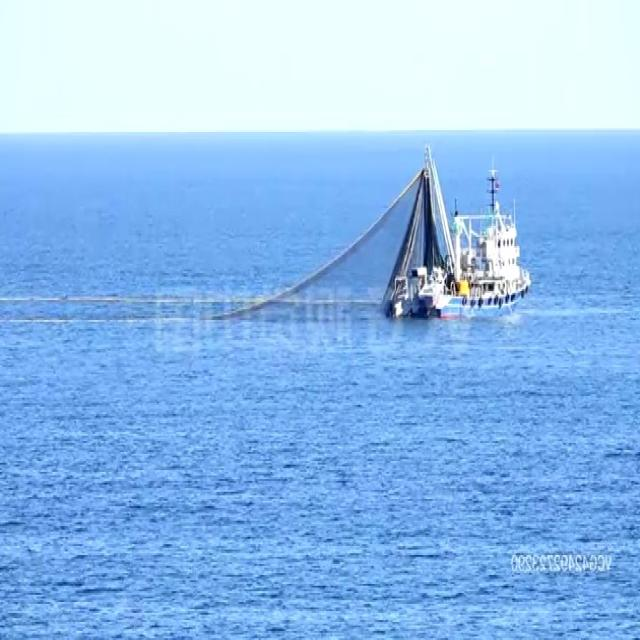fishing boat: (385, 152, 531, 316)
